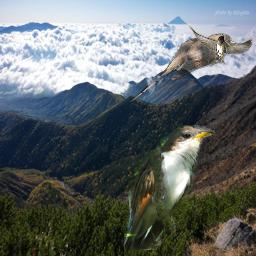Cuckoo: (124, 125, 215, 250), (132, 33, 238, 101)
Swallow: (188, 25, 253, 64)
